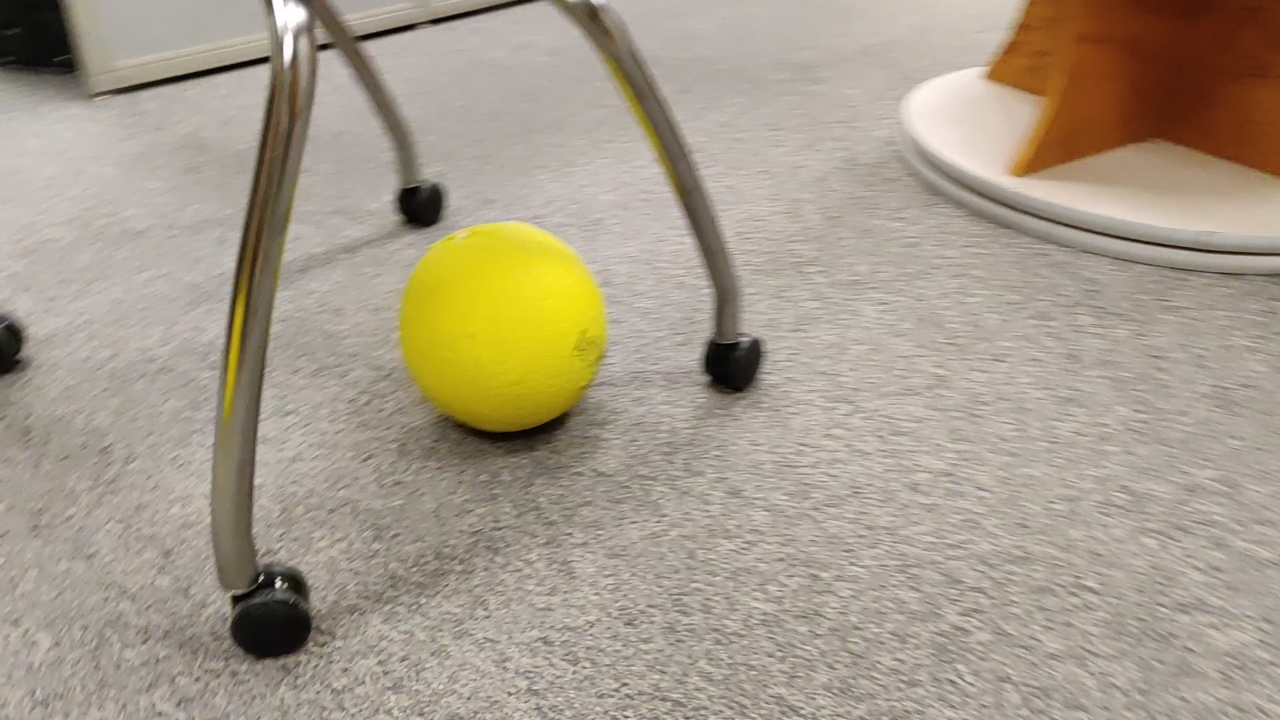Ball: (402, 221, 607, 448)
